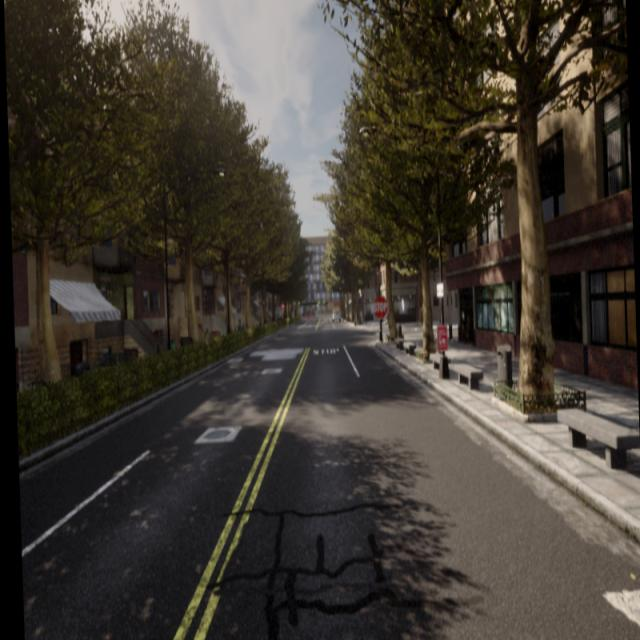stop sign: (371, 292, 390, 321)
